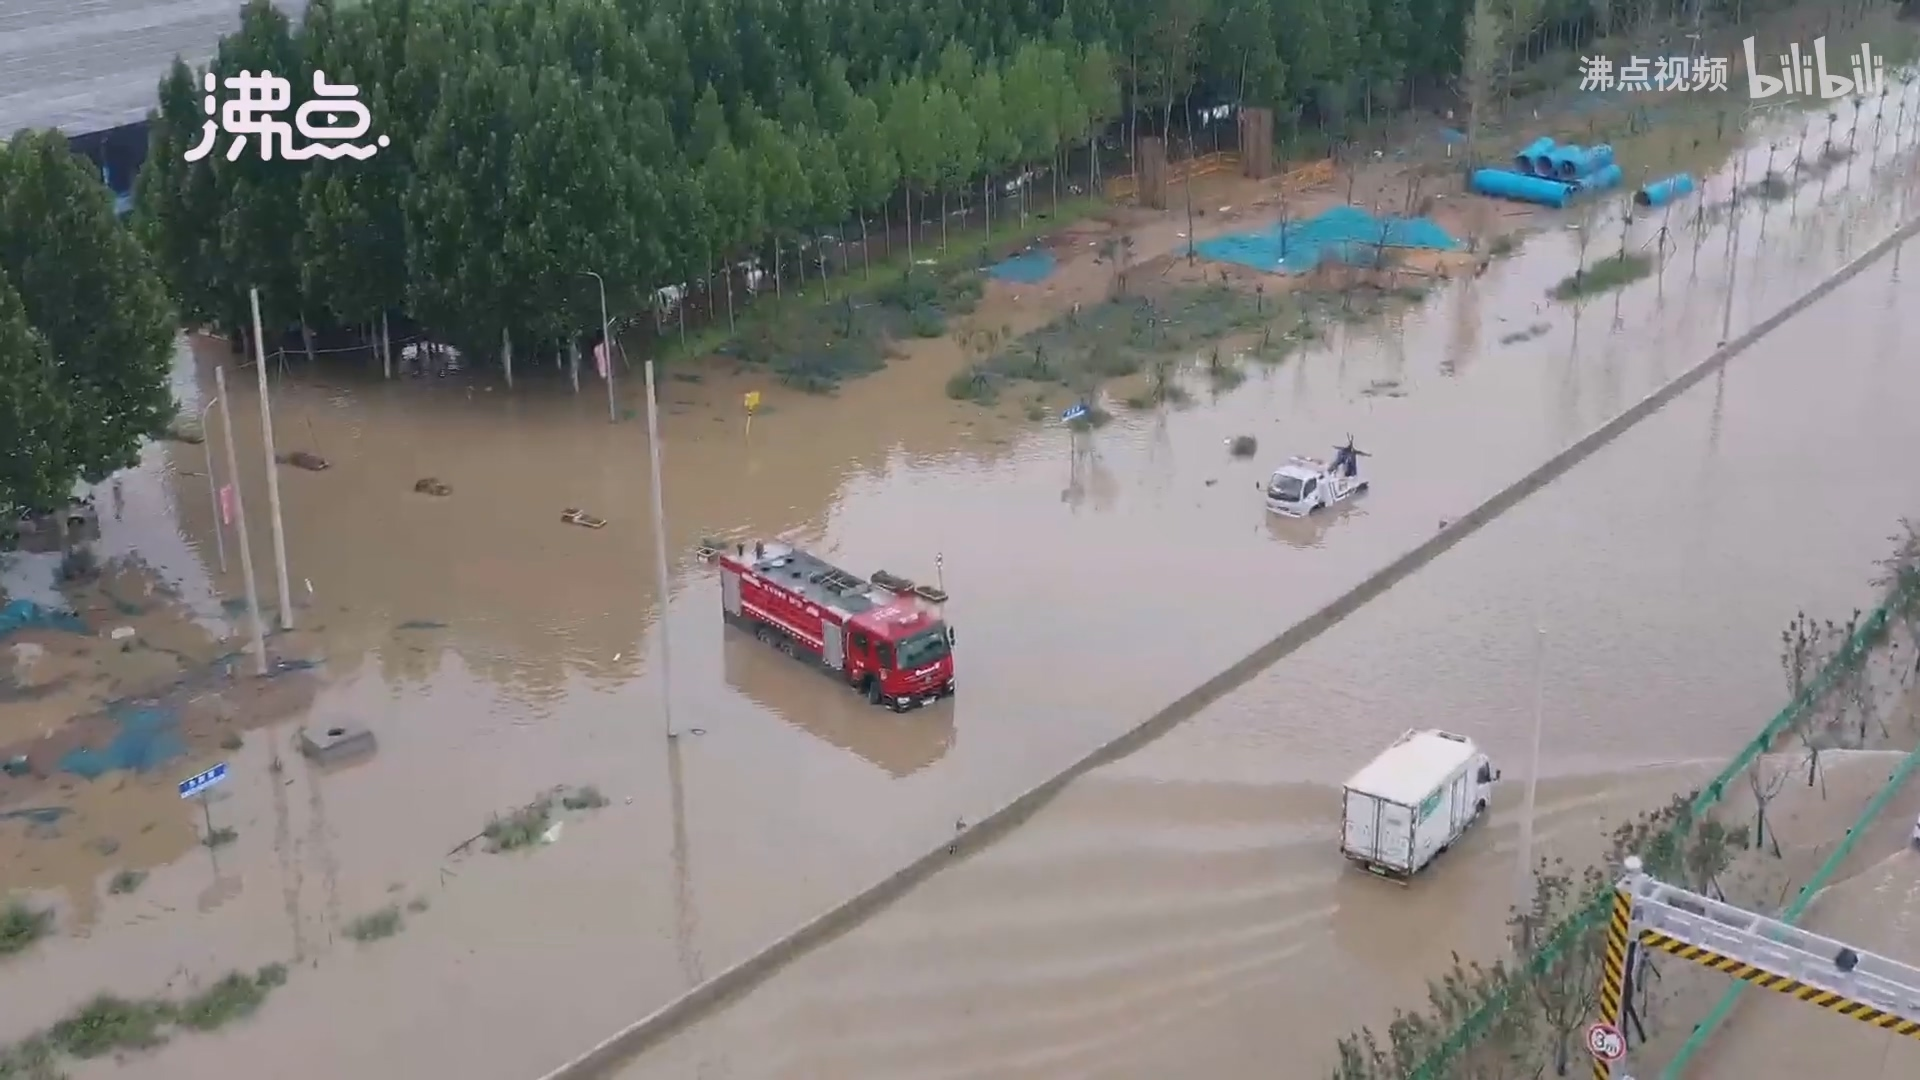puddle: (202, 282, 1498, 1080)
